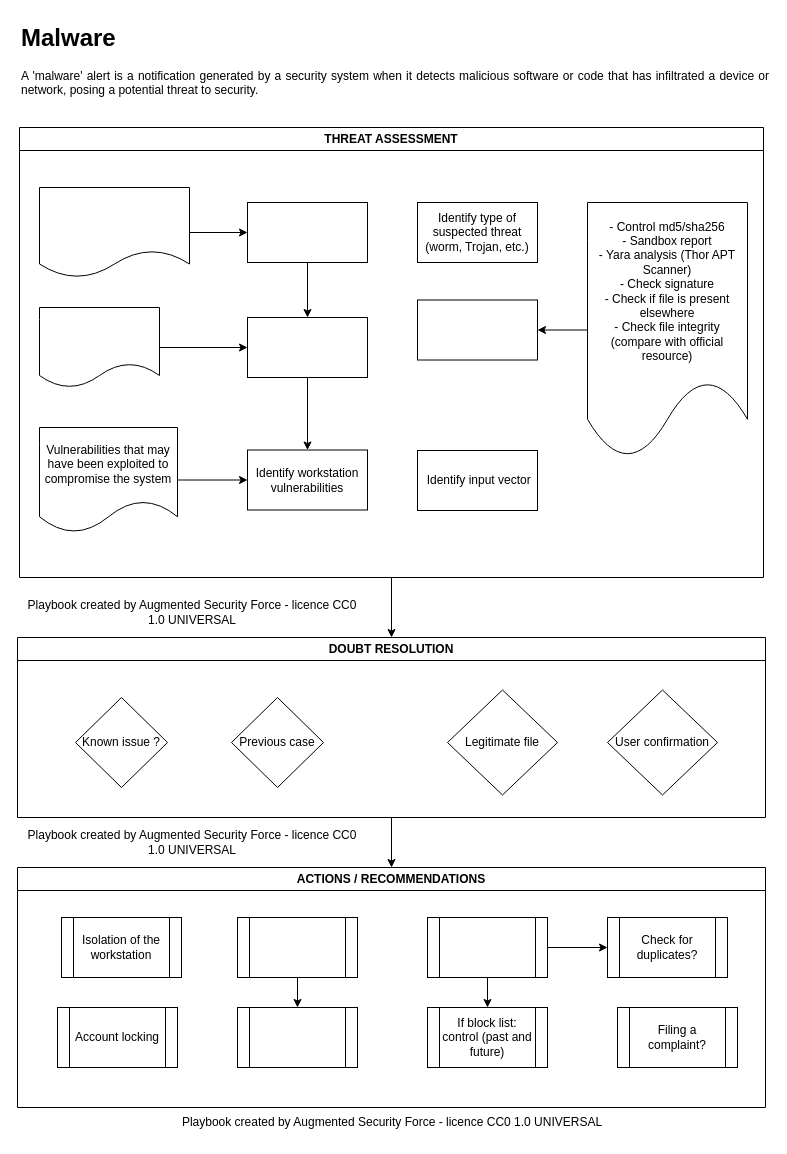
The diagram is 787 pixels wide and 1154 high, and some of its shapes have lost their labels. Here are the shapes that lost their labels. From the top down, the centre of each, then its label:
the point at 114,232: - VIP account? - Privilege account? - Service account?
the point at 307,232: Identifier le compte à l'origine de l'alerte
the point at 99,347: Shared computer ?
the point at 307,347: Identify the workstation linked to this user
the point at 477,329: File retrieval
the point at 297,947: Evidence extraction
the point at 487,947: Add source to allow / block list
the point at 297,1037: Log analysis
